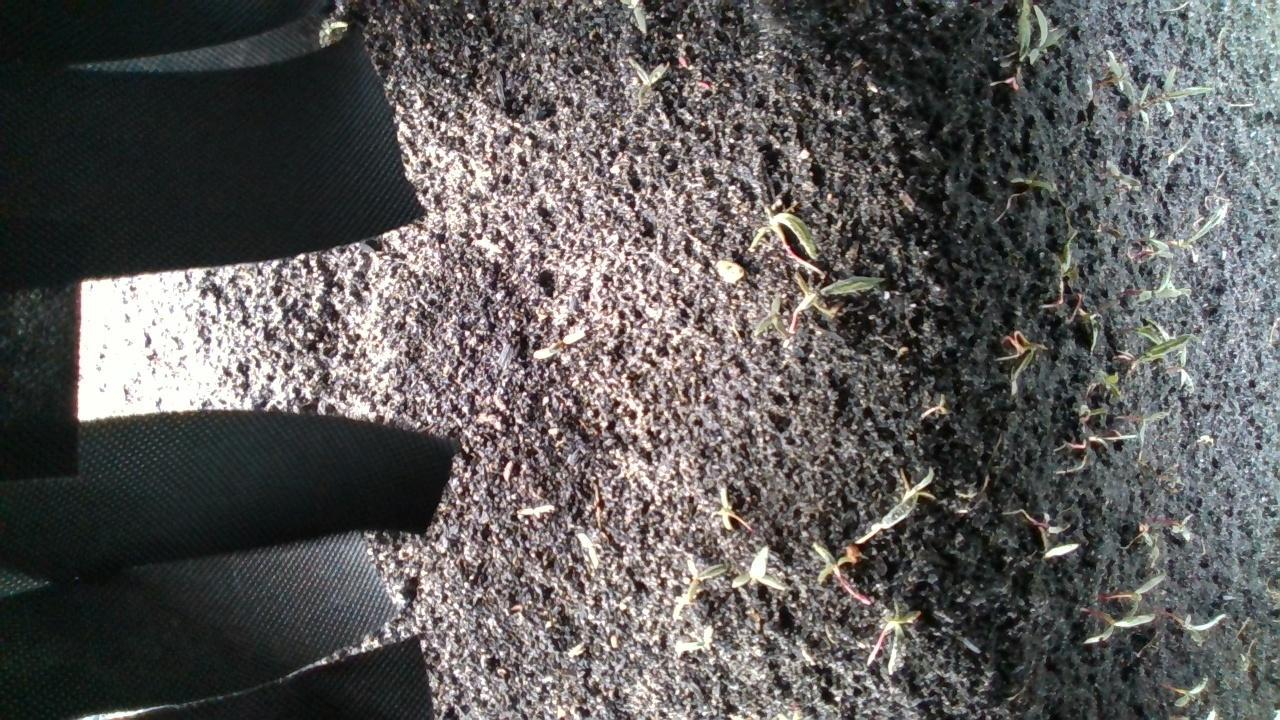weed: (1162, 602, 1230, 654)
